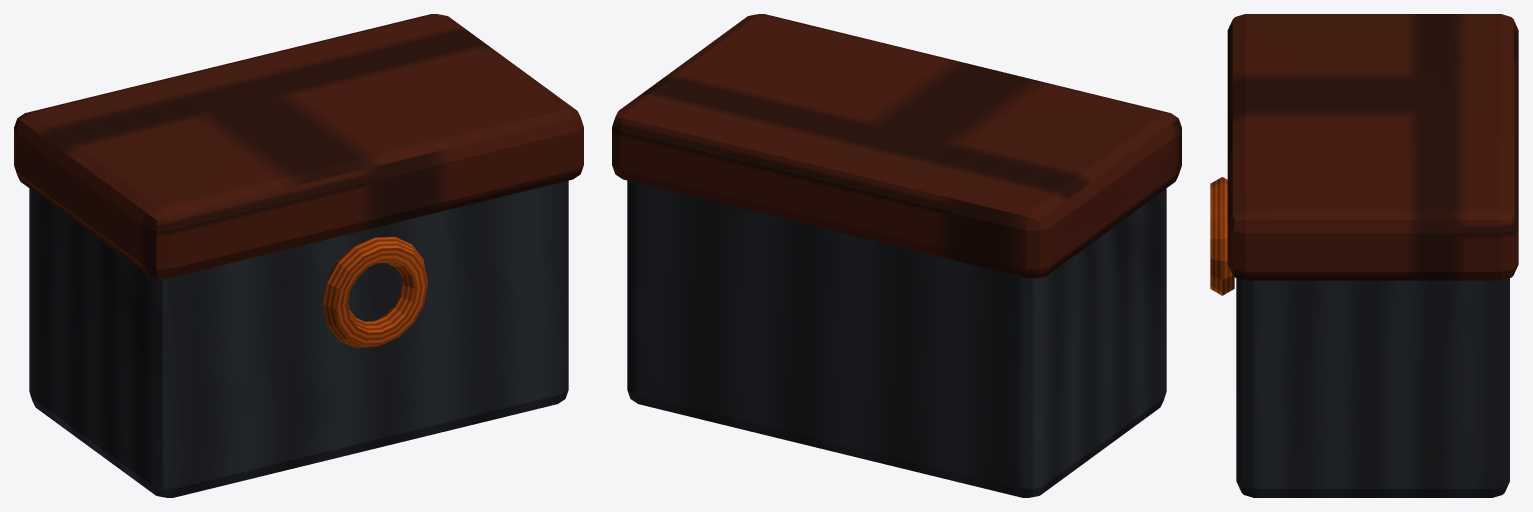
Rendered from SM_FC_RewardChest.fbx.
The picture shows the model from 3 angles, left to right: view 1: azimuth 30°, elevation 25°; view 2: azimuth 150°, elevation 25°; view 3: azimuth 270°, elevation 25°; orthographic projection.
Visible parts, largest first — view 1: SM_FC_RewardChest; view 2: SM_FC_RewardChest; view 3: SM_FC_RewardChest.
Boxes of the visible parts, box(x1,y1,x2,y2) form: SM_FC_RewardChest: box(14, 14, 583, 497); SM_FC_RewardChest: box(612, 14, 1181, 497); SM_FC_RewardChest: box(1210, 14, 1518, 497).
Size of what is drawn, in the model's own units: 1.42 by 0.92 by 0.8796.
